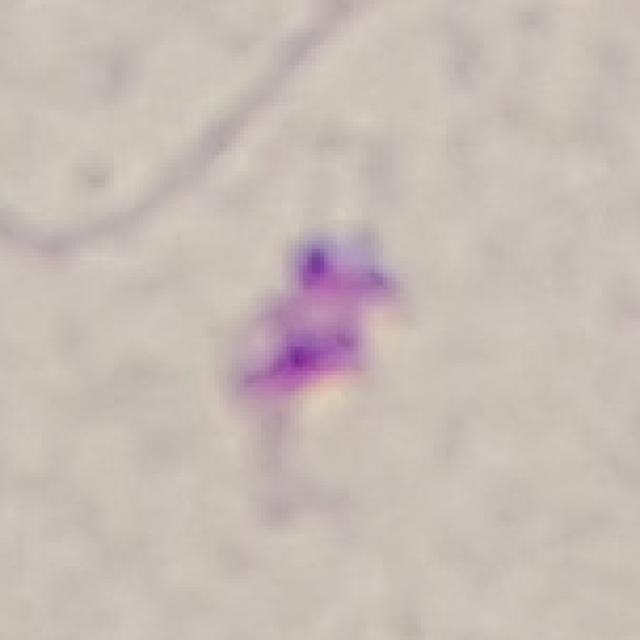non-sperm: (229, 229, 399, 409)
